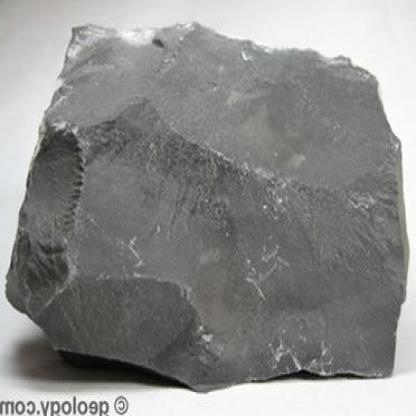Sedimentary_Limestone: (2, 20, 408, 390)
